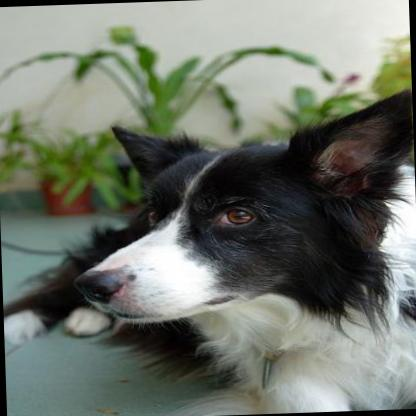Border_collie: (0, 85, 416, 416)
